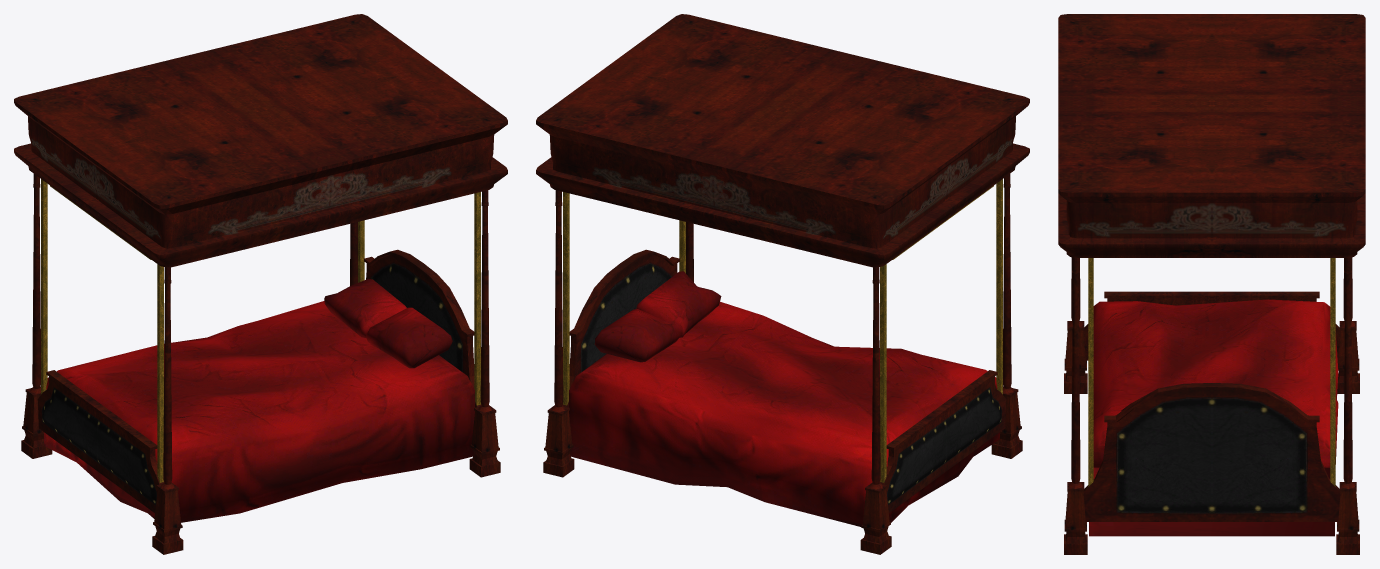
File: bed_cage_up.DAE
3 renders of one model, left to right at view 1: azimuth 30°, elevation 25°; view 2: azimuth 150°, elevation 25°; view 3: azimuth 270°, elevation 25°, orthographic. The views are drawn at different scales.
Visible parts, largest first — view 1: Object005; view 2: Object005; view 3: Object005.
Boxes of the visible parts, bbox=[...] form: Object005: bbox=[14, 14, 507, 554]; Object005: bbox=[536, 14, 1029, 554]; Object005: bbox=[1058, 14, 1365, 554].
Size of the model in its own units: 3.59 by 2.61 by 3.42.
